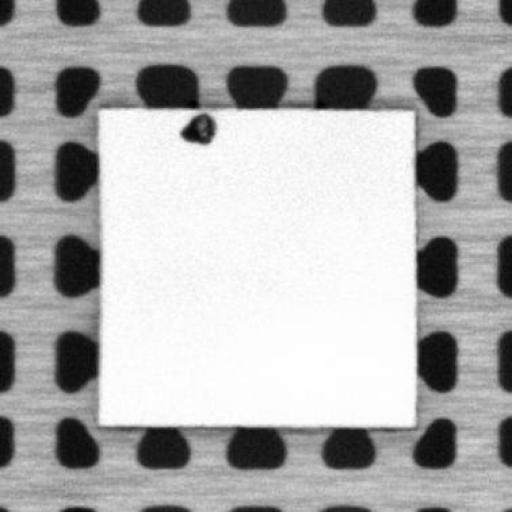DIE_INK: (175, 109, 218, 146)
